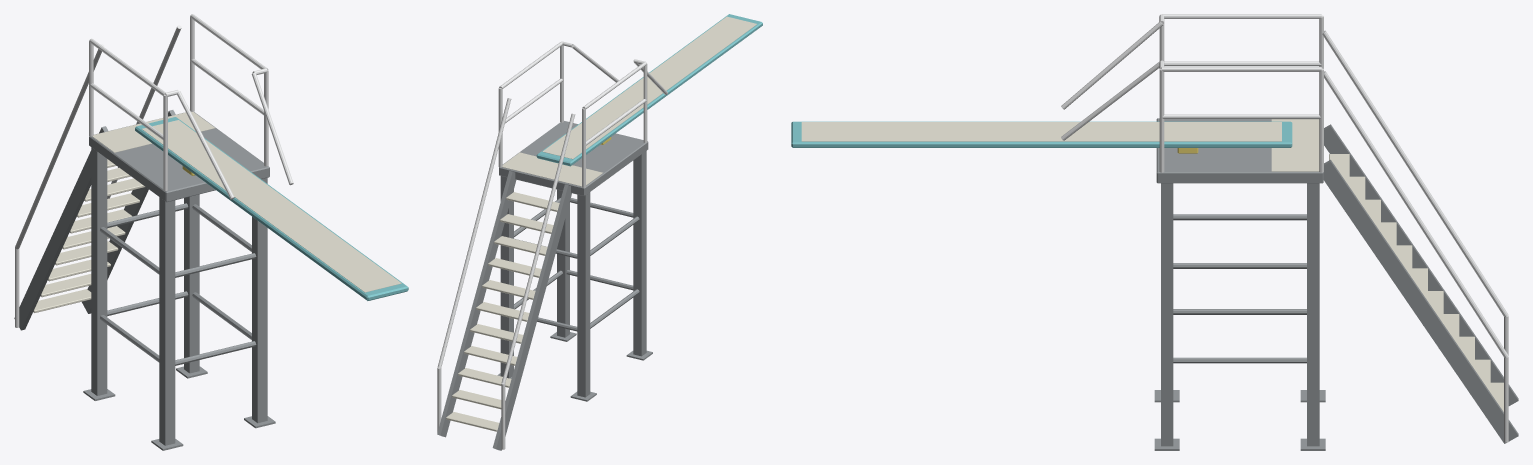
The model's file is board_3m.glb.
The picture shows the model from 3 angles, left to right: view 1: azimuth 30°, elevation 25°; view 2: azimuth 150°, elevation 25°; view 3: azimuth 270°, elevation 25°; orthographic projection. The views are drawn at different scales.
Visible parts, largest first — view 1: board_3m_steel, board_3m_grip, board_3m_chrome, board_3m_board; view 2: board_3m_steel, board_3m_grip, board_3m_chrome, board_3m_board; view 3: board_3m_steel, board_3m_grip, board_3m_chrome, board_3m_board.
Boxes of the visible parts, x1,y1,x2,y2 form: board_3m_steel: (14, 110, 275, 450); board_3m_grip: (33, 111, 401, 312); board_3m_chrome: (15, 14, 293, 327); board_3m_board: (135, 117, 408, 300); board_3m_steel: (437, 121, 652, 450); board_3m_grip: (446, 16, 756, 431); board_3m_chrome: (437, 41, 667, 449); board_3m_board: (536, 14, 762, 166); board_3m_steel: (1154, 118, 1518, 450); board_3m_grip: (801, 119, 1503, 411); board_3m_chrome: (1061, 14, 1508, 442); board_3m_board: (791, 121, 1292, 147).
Size of the model in its own units: 1.34 by 4.07 by 6.97.
